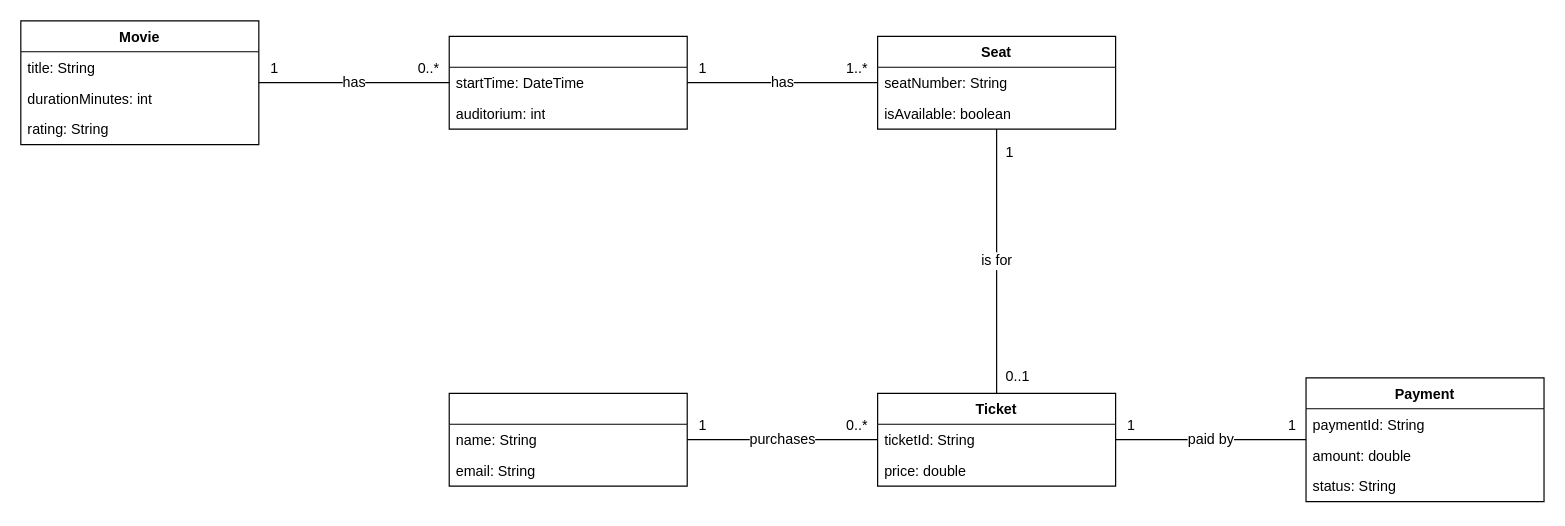
This 1565x526 diagram has some shape labels left out. The shapes that lost their labels are listed below. From the top down, each one's box as (x1, y1, x2, y2) in pixels, then its label:
(448, 35, 687, 129): Showtime
(448, 392, 687, 486): Customer
